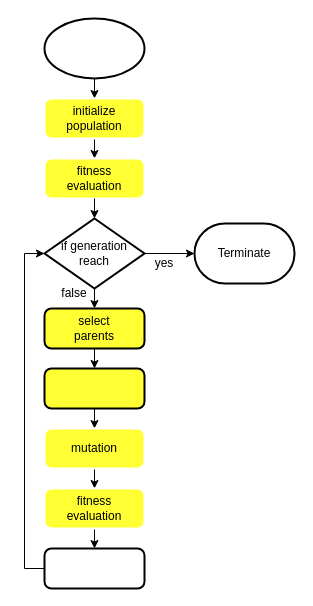
This 313x606 diagram has some shape labels left out. The shapes that lost their labels are listed below. From the top down, each one's box as (x1, y1, x2, y2) in pixels, then its label:
(43, 17, 145, 79): GA flow
(43, 367, 145, 409): crossover
(43, 547, 145, 589): select next generation
